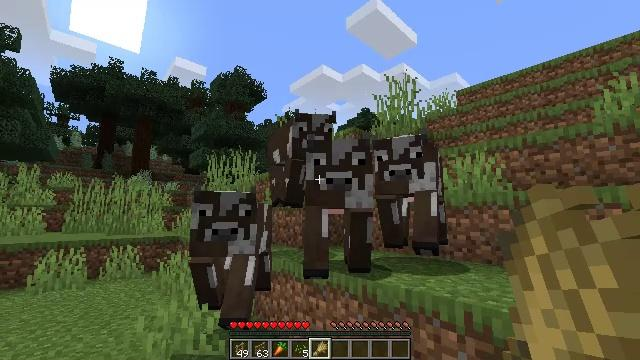cow: (189, 191, 277, 321), (305, 142, 373, 274), (375, 135, 442, 256), (266, 112, 339, 207)
